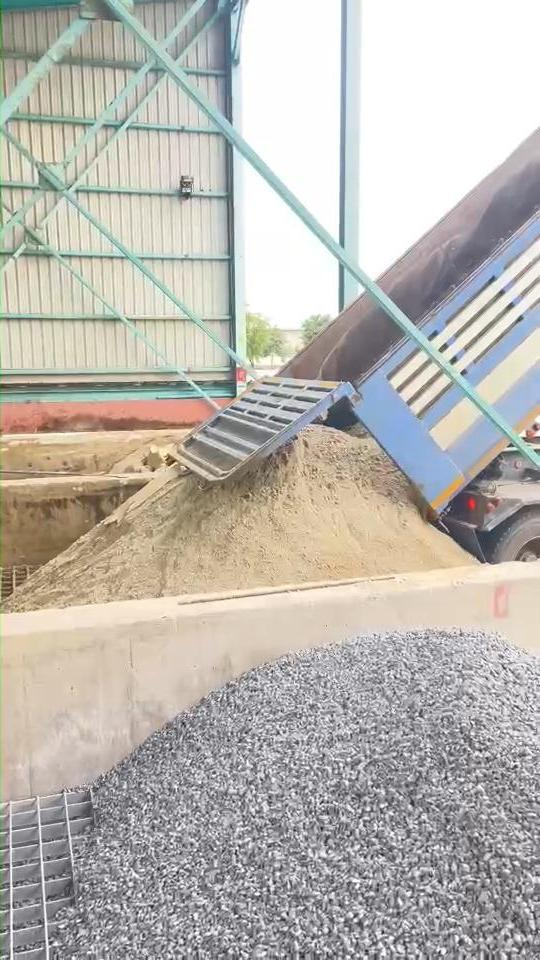gravel: (59, 630, 540, 959)
sand: (6, 427, 475, 610), (113, 464, 185, 521), (110, 444, 176, 474)
